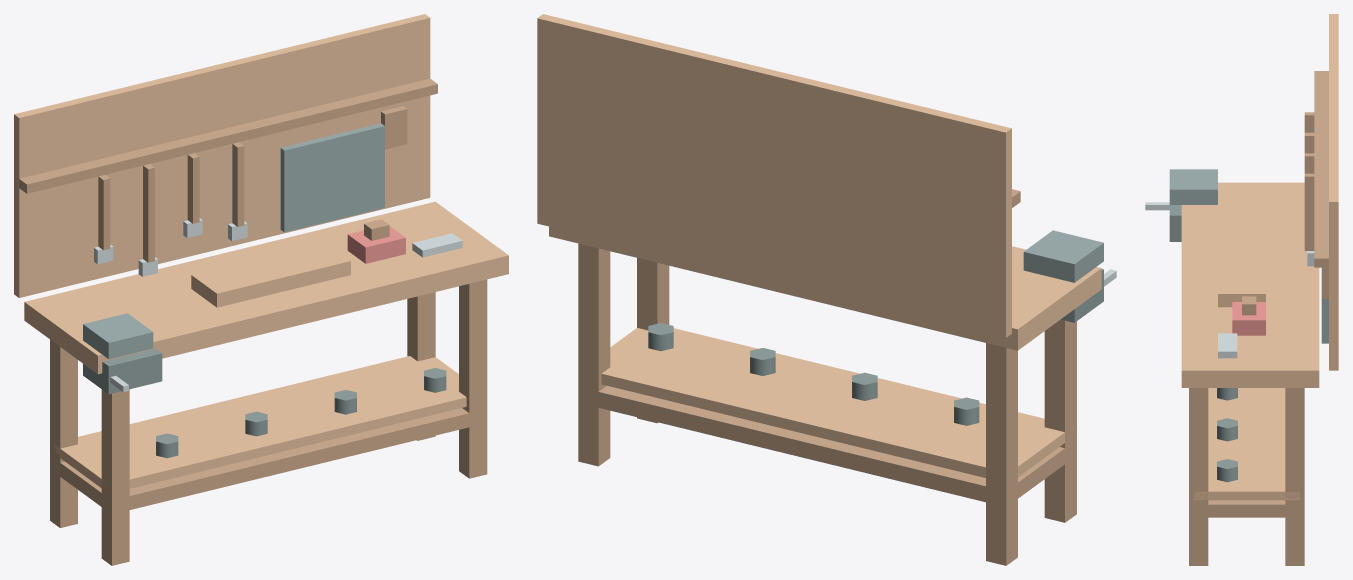
File: workbench.glb
The picture shows the model from 3 angles, left to right: view 1: azimuth 30°, elevation 25°; view 2: azimuth 150°, elevation 25°; view 3: azimuth 270°, elevation 25°; orthographic projection. The views are drawn at different scales.
Parts seen in each view (by area): view 1: workbench; view 2: workbench; view 3: workbench.
Boxes of the visible parts, x1,y1,x2,y2 form: workbench: (14, 14, 508, 565); workbench: (537, 14, 1116, 565); workbench: (1145, 14, 1338, 565).
Size of the model in its own units: 0.92 by 0.85 by 0.4.
